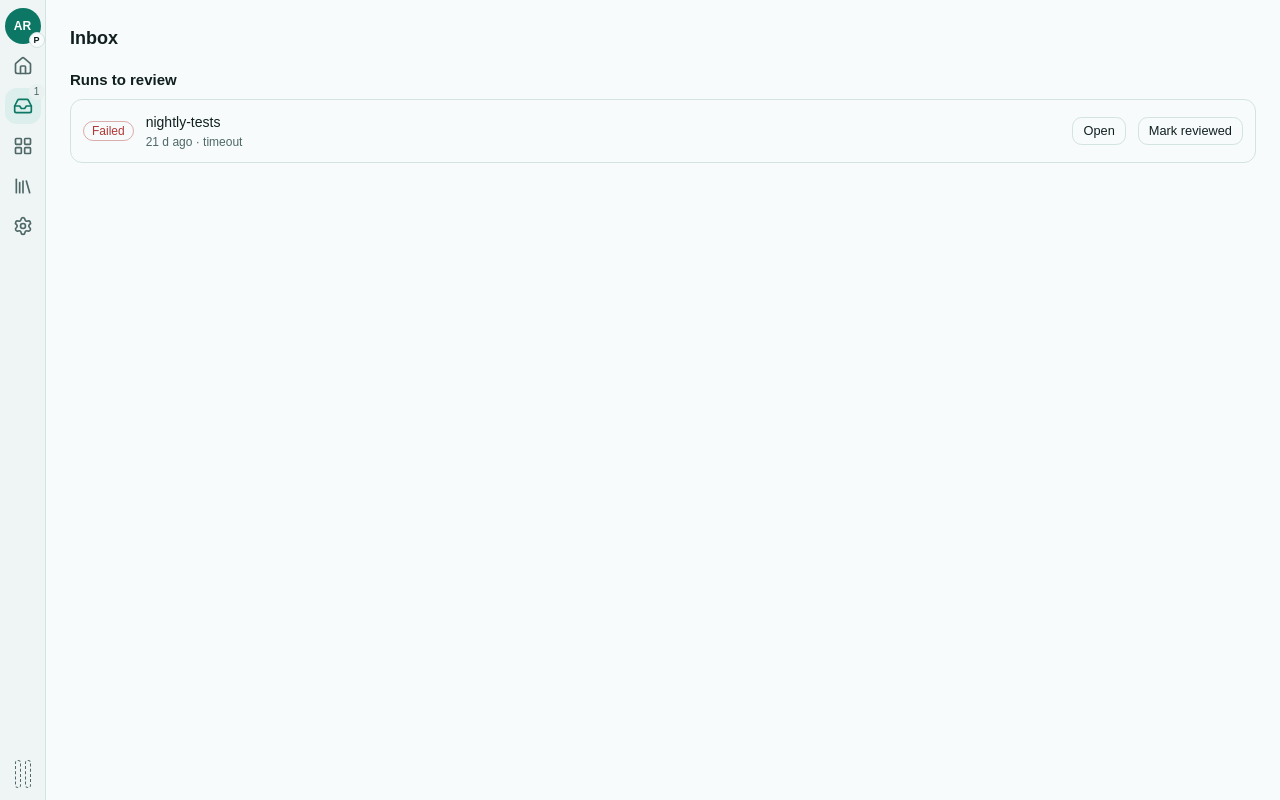
Test case: the Inbox › marks a run as reviewed and drops it from the list
Click the button "Mark reviewed" at (1190, 131), box x1=1138 y1=117 x2=1243 y2=145
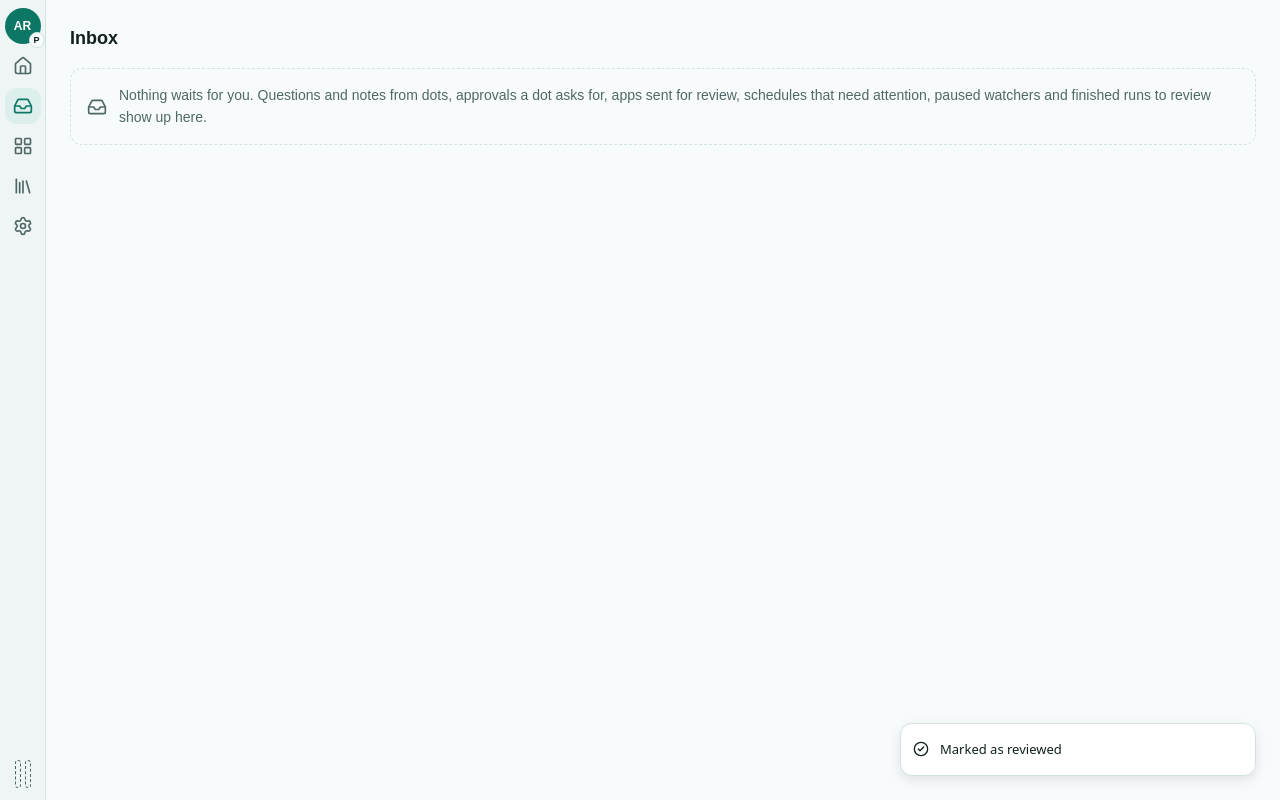
Result: the text "Marked as reviewed" is shown at x1=940 y1=740 x2=1062 y2=759
Result: the text "Nothing waits for you" is shown at x1=119 y1=87 x2=1211 y2=125
